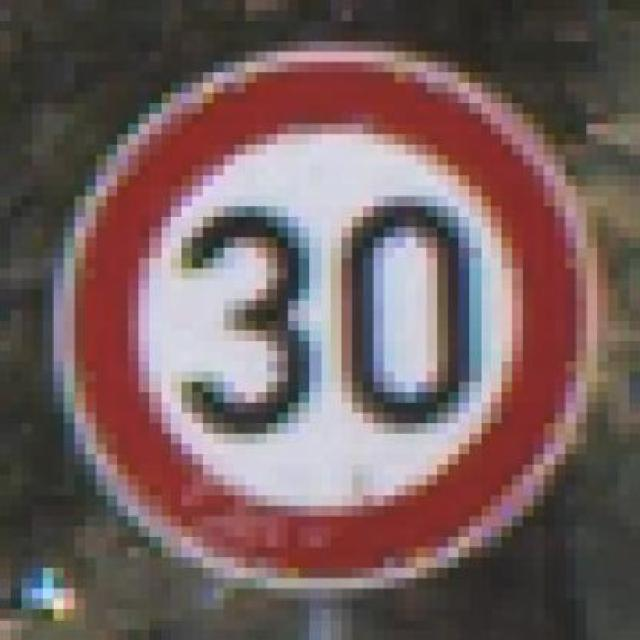Speed Limit 30 KMPh: (32, 42, 630, 609)
